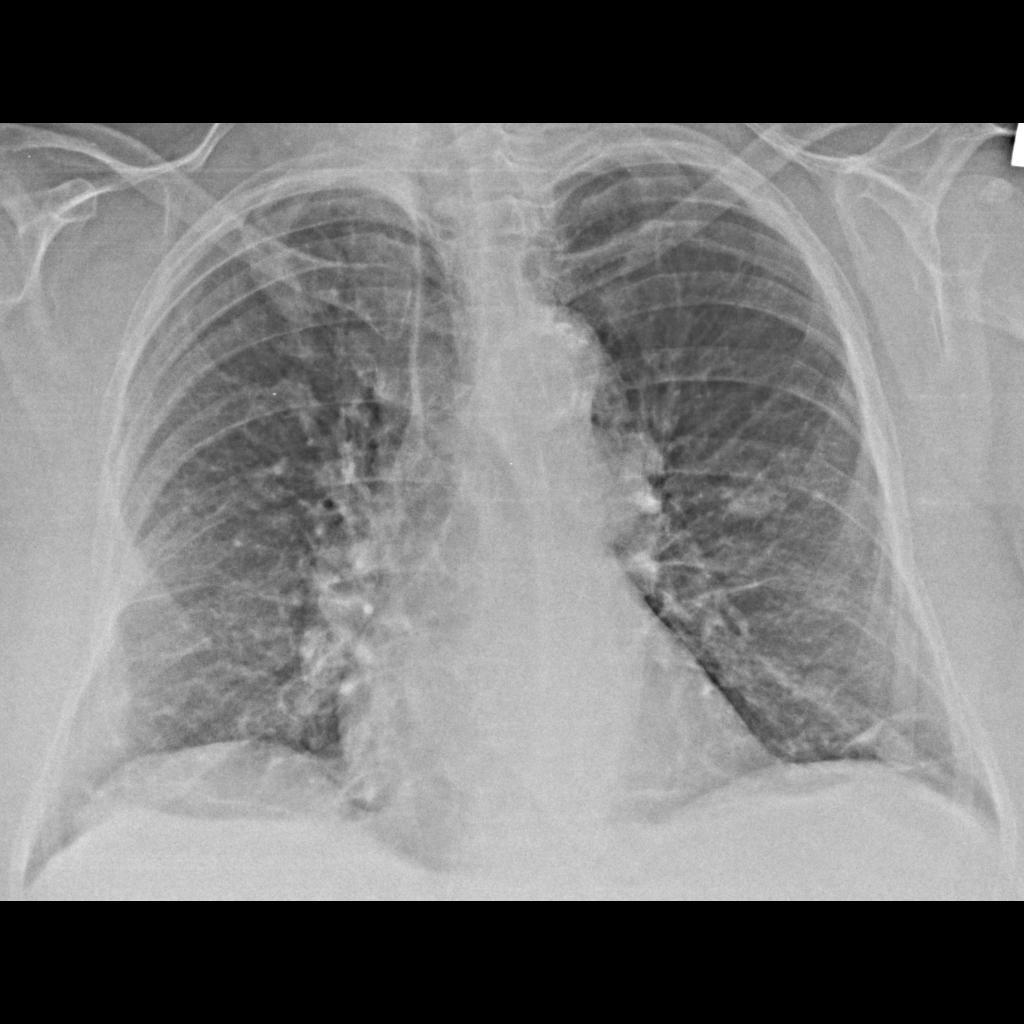Nodule: (242, 217, 351, 327), (714, 455, 794, 532)
